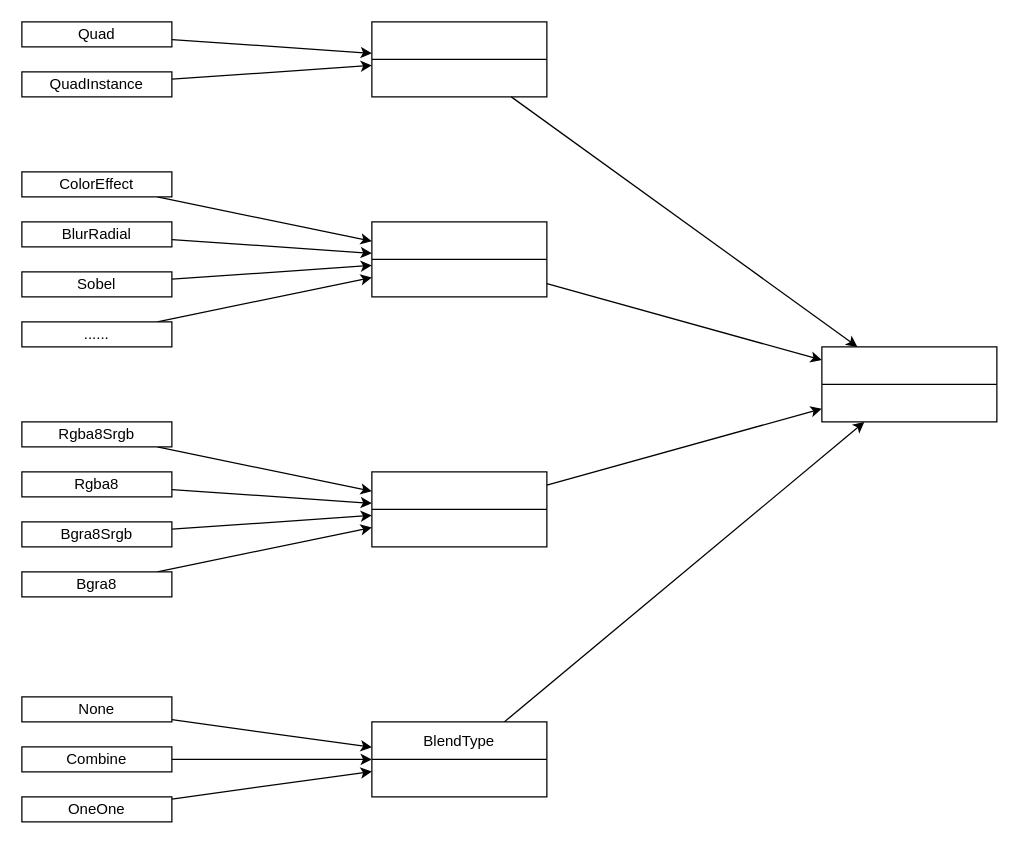
Some shapes in this 1019 by 844 pixel diagram are drawn without their labels. The centre of each missing label's shape, as x and y in pixels:
"GeometryType" goes at point (459, 59).
"Renderer" goes at point (909, 384).
"ShaderType" goes at point (459, 259).
"TargetFormatType" goes at point (459, 509).
